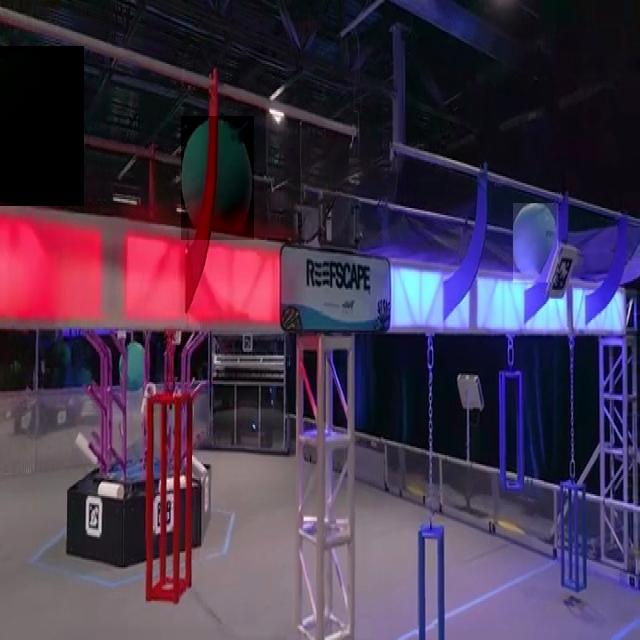Algae: (0, 46, 84, 206), (181, 116, 254, 240), (514, 204, 560, 284)
